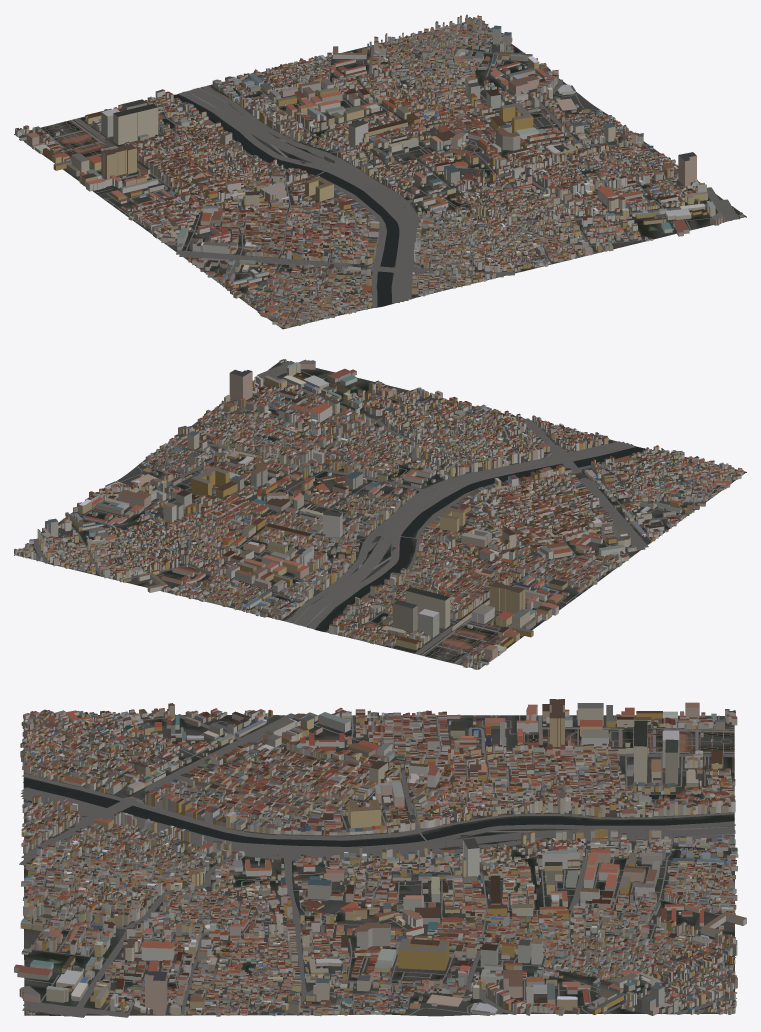
3 views of the same model, one above another, from view 1: azimuth 30°, elevation 25°; view 2: azimuth 150°, elevation 25°; view 3: azimuth 270°, elevation 25° (orthographic). The views are drawn at different scales.
Parts seen in each view (by area): view 1: buildings, ground, roads, water; view 2: buildings, ground, roads, water; view 3: buildings, ground, roads, water.
Boxes of the visible parts, x1=… form: buildings: x1=15, y1=14, x2=744, y2=328; ground: x1=14, y1=22, x2=746, y2=329; roads: x1=20, y1=19, x2=739, y2=326; water: x1=55, y1=29, x2=706, y2=306; buildings: x1=14, y1=359, x2=743, y2=669; ground: x1=14, y1=361, x2=746, y2=669; roads: x1=14, y1=361, x2=741, y2=667; water: x1=41, y1=376, x2=645, y2=658; buildings: x1=14, y1=699, x2=746, y2=1016; ground: x1=23, y1=715, x2=735, y2=1016; roads: x1=19, y1=713, x2=737, y2=1017; water: x1=23, y1=739, x2=735, y2=1013.
Bounding box in the file's own units: 1431 × 87.44 × 1445.
